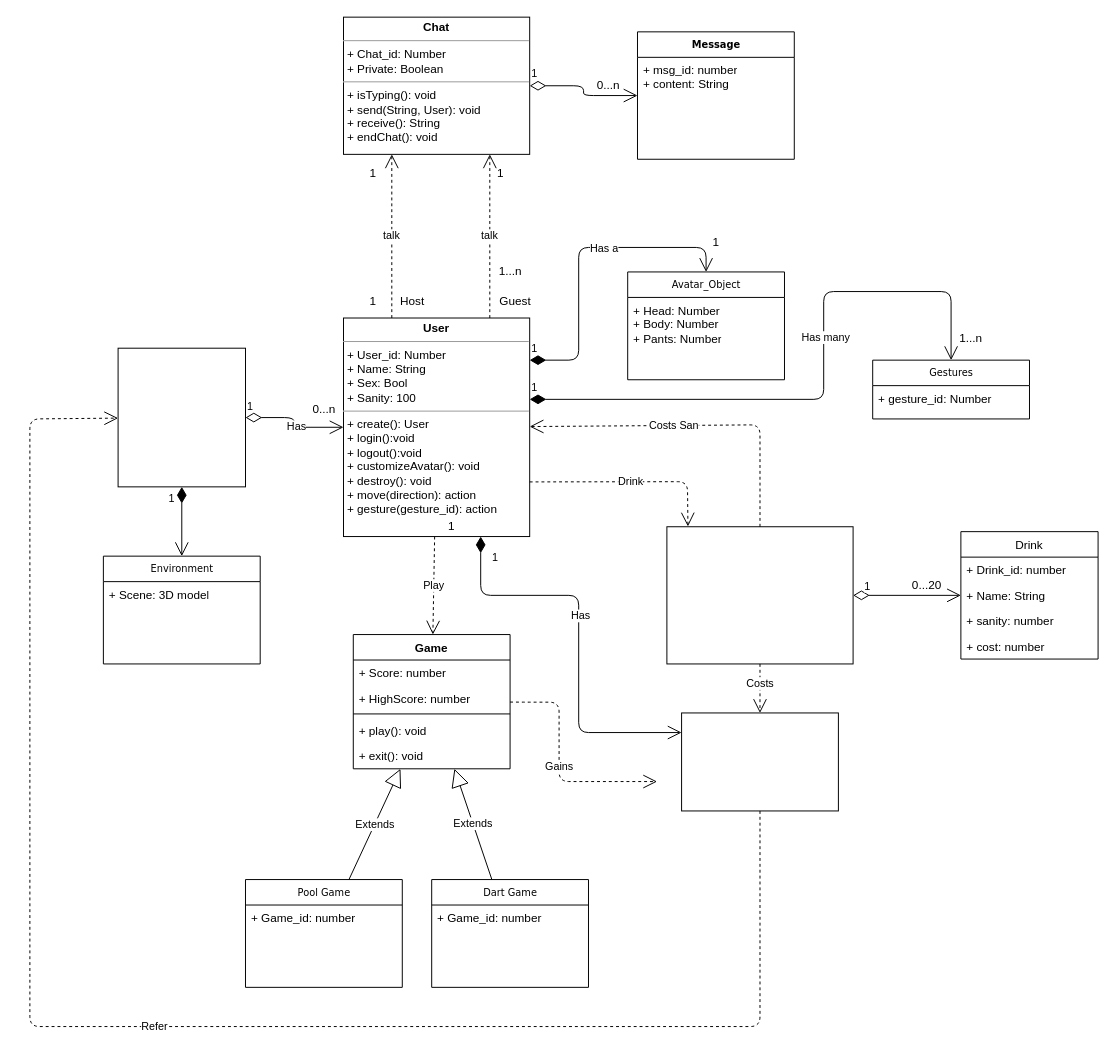
Some shapes in this 1115 by 1057 pixel diagram are drawn without their labels. Here are the shapes that lost their labels. From the top down, the centre of each, then its label:
(181,417): Room + Room_id: Number + Time: Time
(759,595): Bar + drink(Drink_id): void
(759,761): Money + Amount: Number + addMoney(time): void
